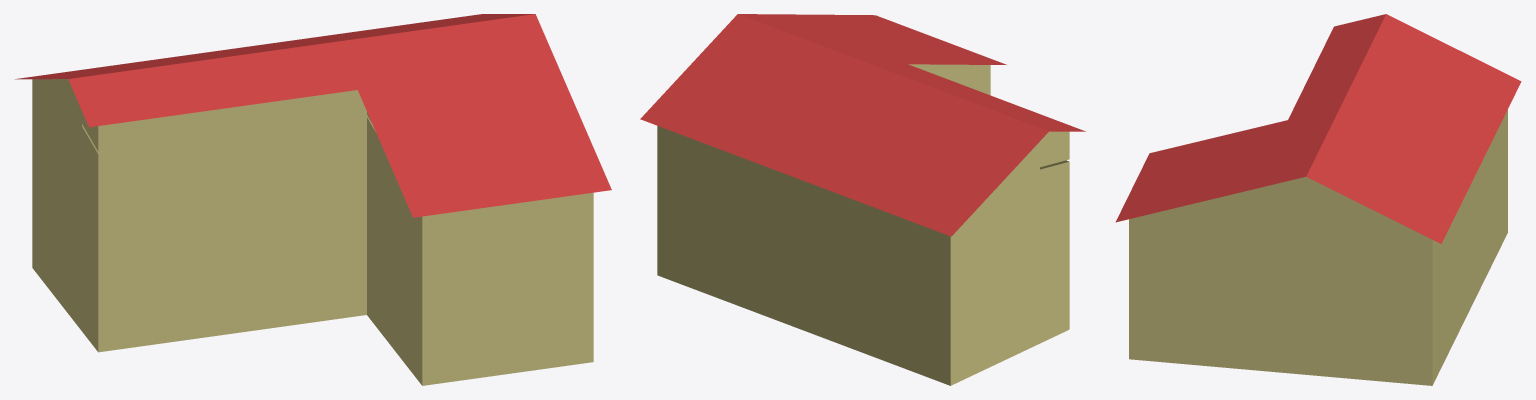
3 renders of one model, left to right at view 1: azimuth 30°, elevation 25°; view 2: azimuth 150°, elevation 25°; view 3: azimuth 270°, elevation 25°, orthographic. The views are drawn at different scales.
Size of the model in its own units: 18.36 by 17.58 by 9.7.
